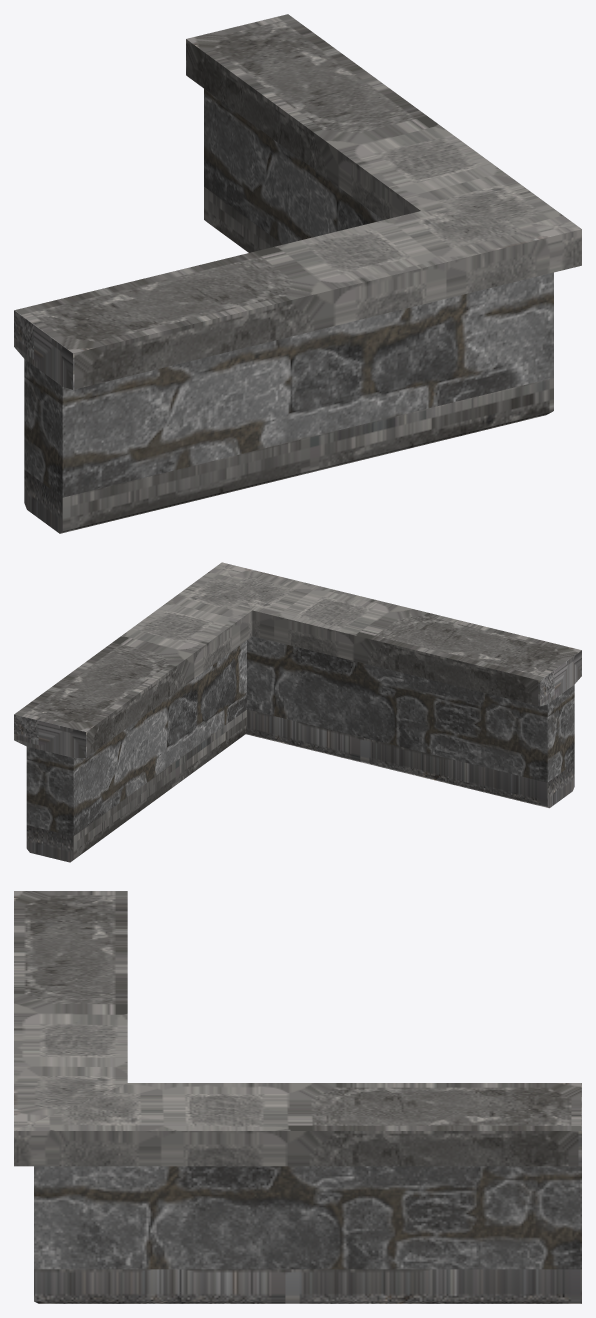
File: MC_Battlements_Wall_B_Angle.fbx
3 views of the same model, one above another, from view 1: azimuth 30°, elevation 25°; view 2: azimuth 150°, elevation 25°; view 3: azimuth 270°, elevation 25° (orthographic). The views are drawn at different scales.
Visible parts, largest first — view 1: MC_Battlements_Wall_B_Angle; view 2: MC_Battlements_Wall_B_Angle; view 3: MC_Battlements_Wall_B_Angle.
Boxes of the visible parts, box(x1,y1,x2,y2) form: MC_Battlements_Wall_B_Angle: box(14, 14, 581, 533); MC_Battlements_Wall_B_Angle: box(14, 562, 581, 862); MC_Battlements_Wall_B_Angle: box(14, 891, 581, 1303).
Bounding box in the file's own units: 222 × 79.27 × 222.
